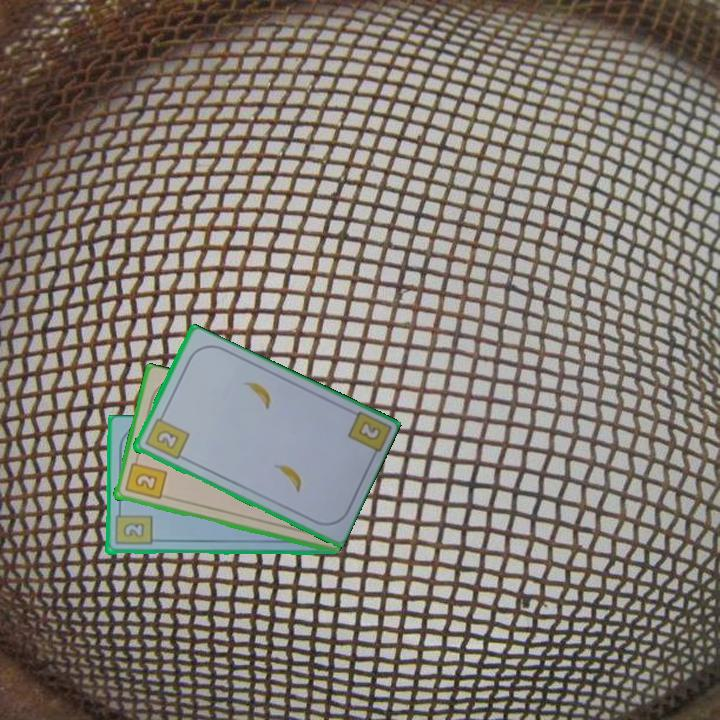2b: (141, 410, 192, 463), (121, 454, 169, 503), (112, 506, 154, 548), (354, 418, 385, 444)
